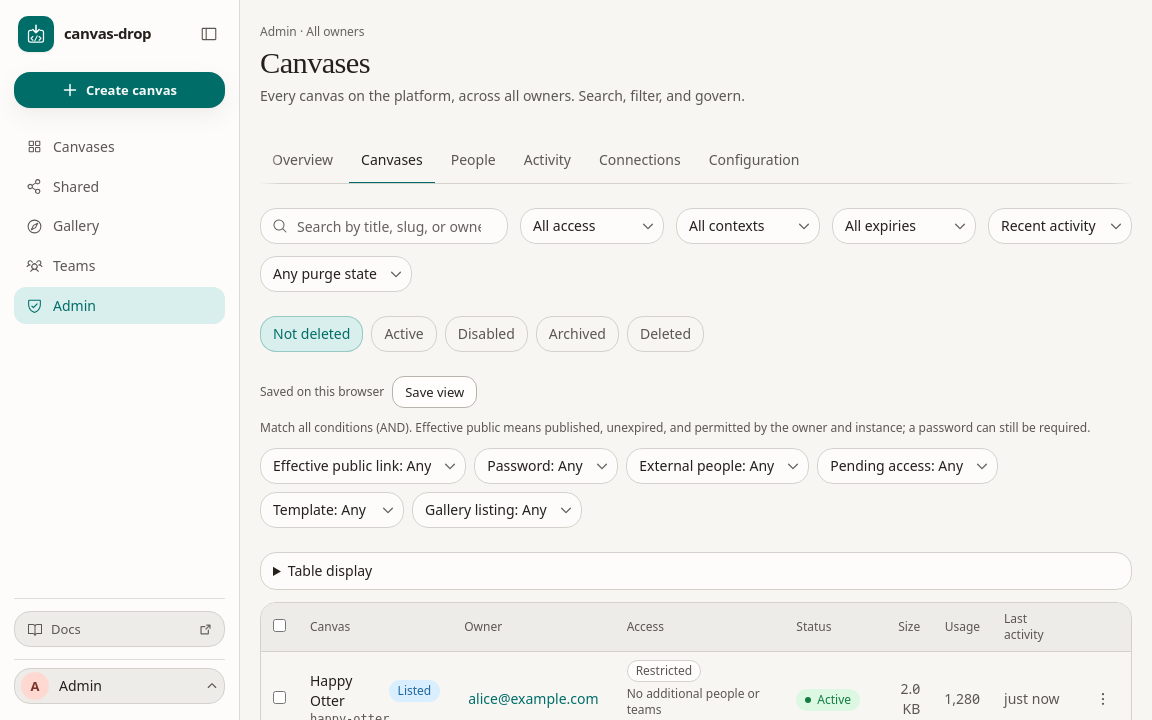
Scenario: admin dashboard › filters the Canvases table by owner when an owner email is clicked
What coordinates should you click on to do the following:
click the button "alice@example.com"
I would click on:
 (533, 699)
Its box is [464,687,603,711].
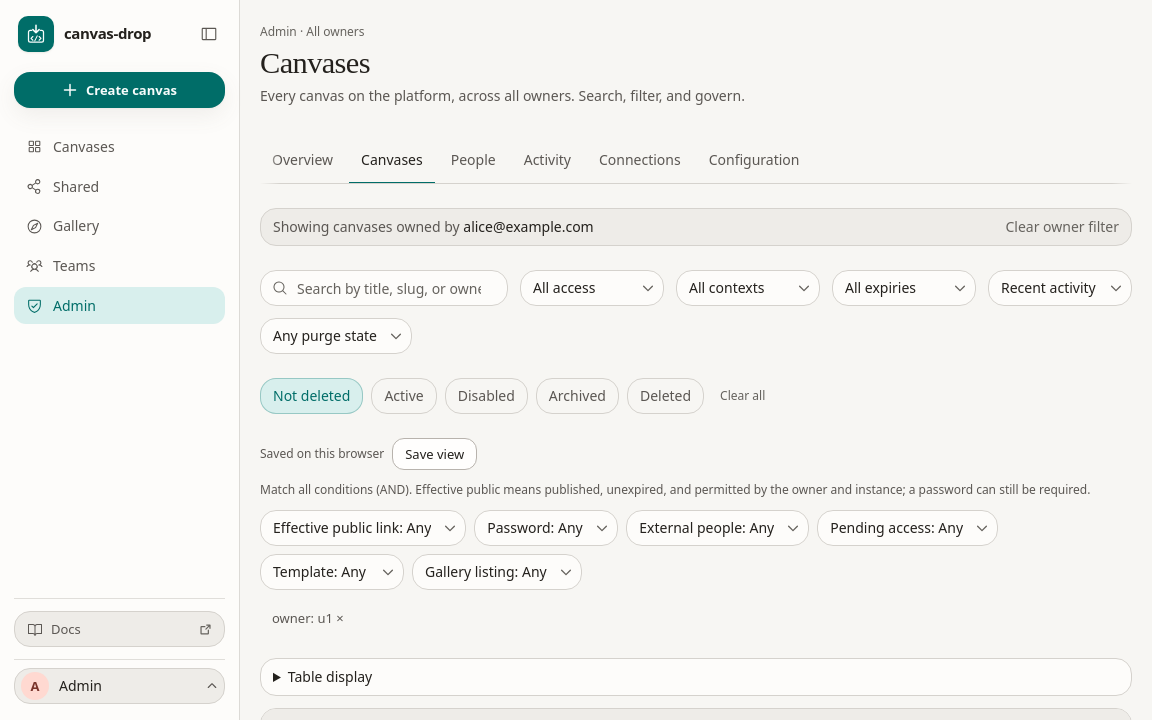
Now the text "Showing canvases owned by alice@example.com" is shown, box [273,217,594,237]
